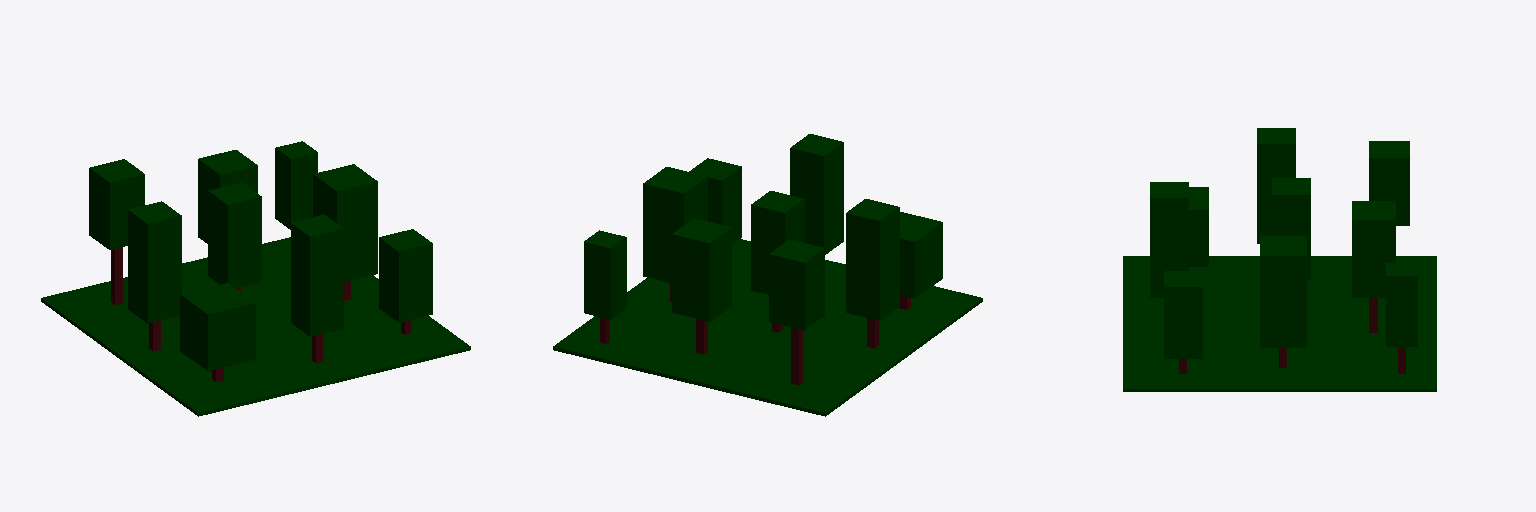
The model's file is Trees.obj.
The picture shows the model from 3 angles: view 1: azimuth 30°, elevation 25°; view 2: azimuth 150°, elevation 25°; view 3: azimuth 270°, elevation 25°; orthographic projection.
Visible parts, largest first — view 1: Mesh_13_Mesh_13.001; view 2: Mesh_13_Mesh_13.001; view 3: Mesh_13_Mesh_13.001.
Part boxes in pixels (x1,y1,x2,y2): Mesh_13_Mesh_13.001: (41,141,470,416); Mesh_13_Mesh_13.001: (553,134,982,416); Mesh_13_Mesh_13.001: (1123,128,1436,391).
Bounding box in the file's own units: 20 × 9.8 × 20.